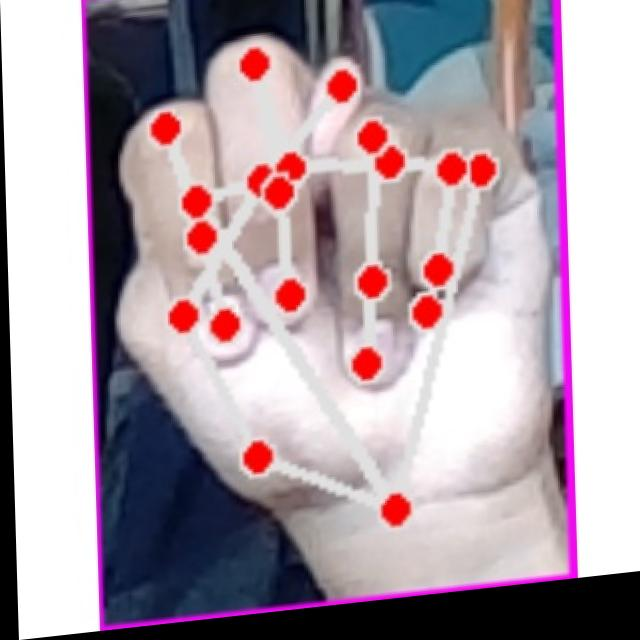N: (106, 7, 549, 582)
